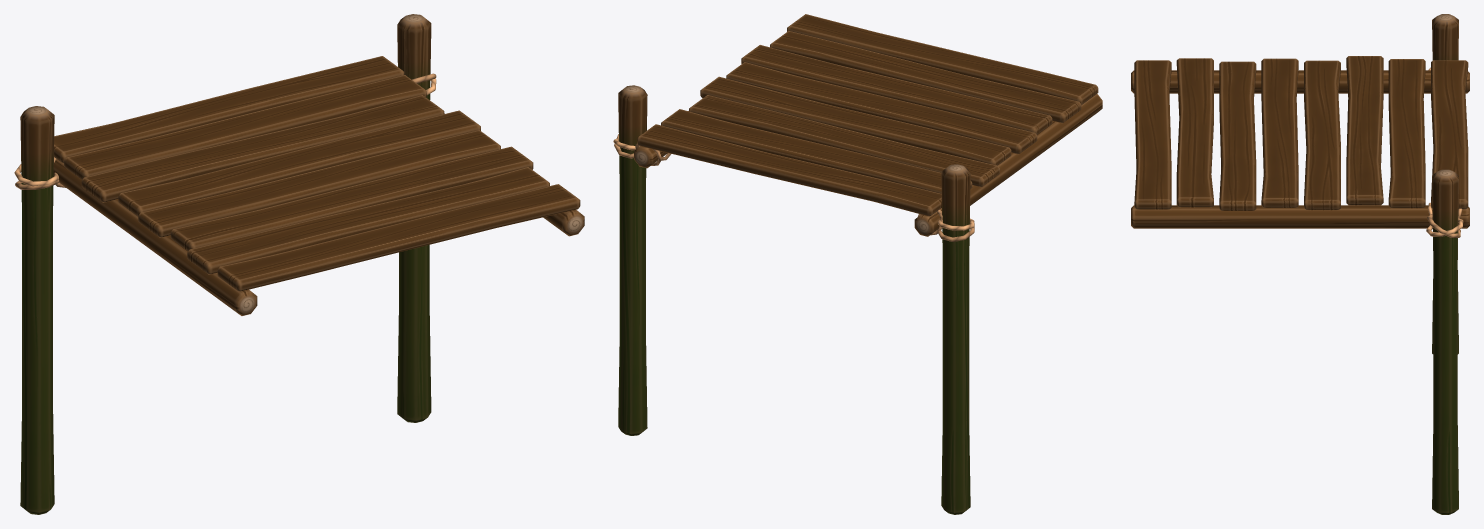
Rendered from End.1.fbx.
3 renders of one model, left to right at view 1: azimuth 30°, elevation 25°; view 2: azimuth 150°, elevation 25°; view 3: azimuth 270°, elevation 25°, orthographic. The views are drawn at different scales.
Parts seen in each view (by area): view 1: End.1; view 2: End.1; view 3: End.1.
Boxes of the visible parts, box(x1,y1,x2,y2) form: End.1: box(14, 14, 584, 514); End.1: box(613, 14, 1102, 514); End.1: box(1131, 14, 1469, 514).
Size of the model in its own units: 240 by 220 by 200.
